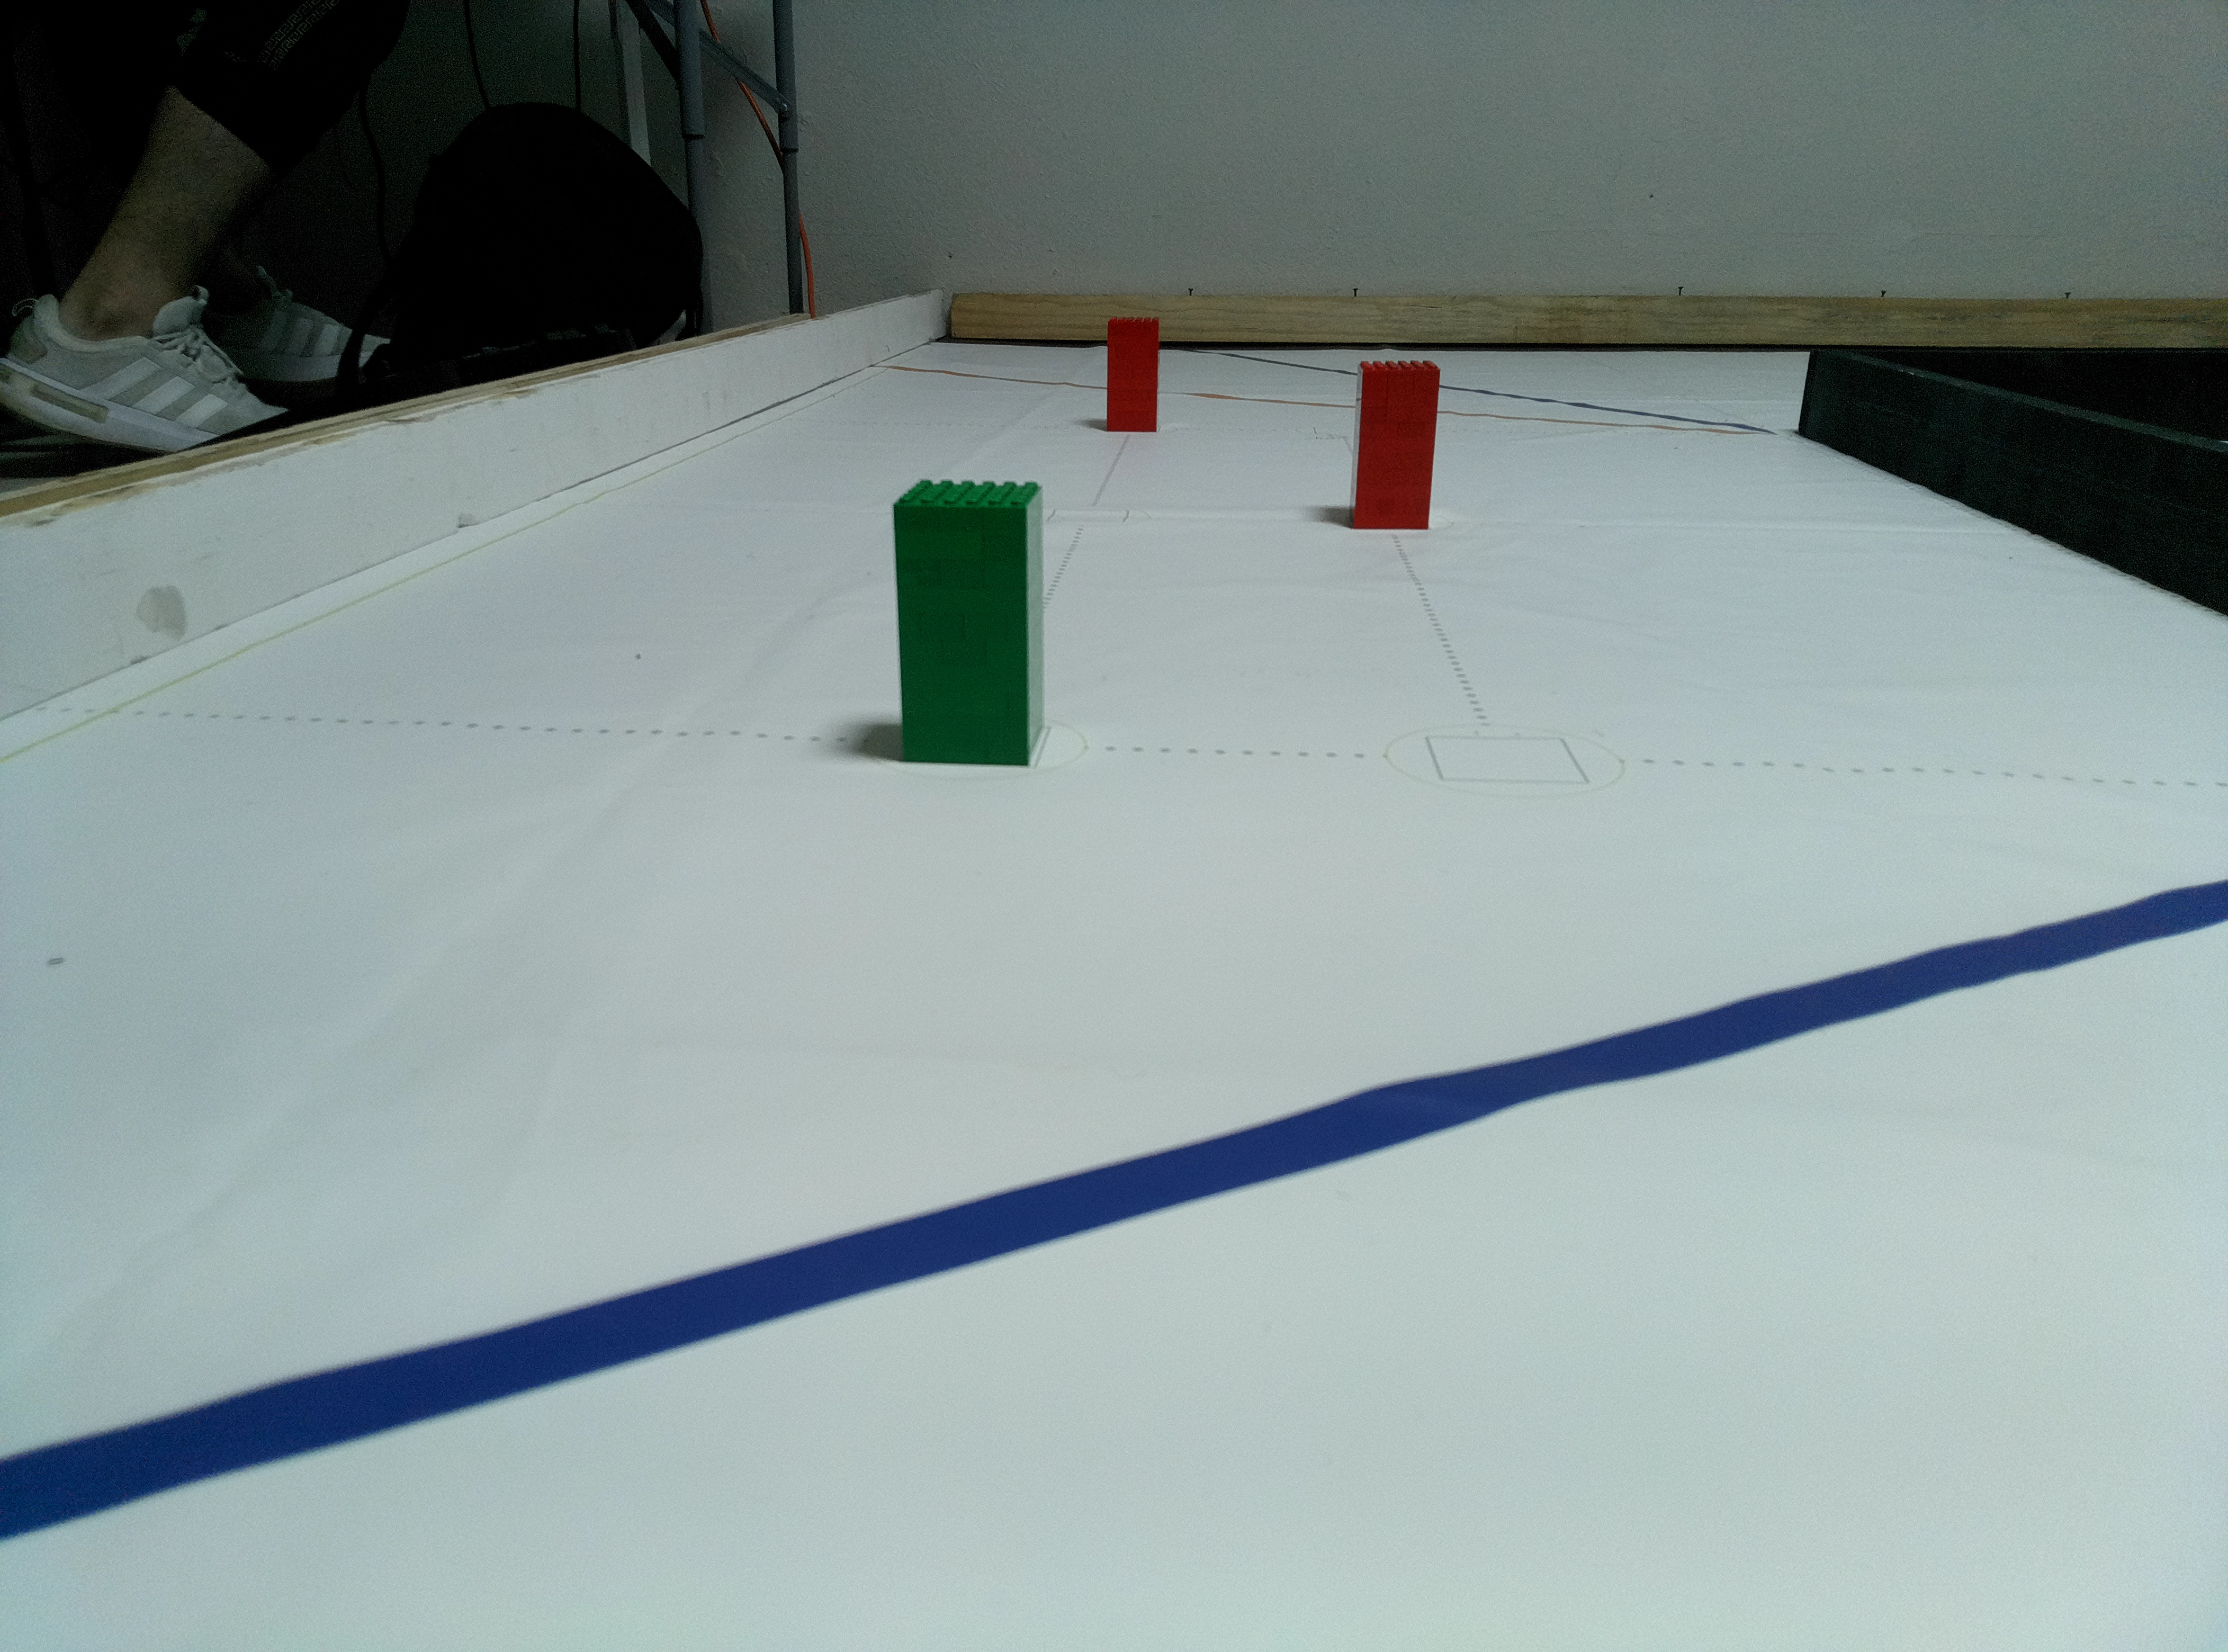greenbox: (888, 475, 1046, 770)
redbox: (1347, 354, 1442, 533), (1105, 316, 1163, 434)
